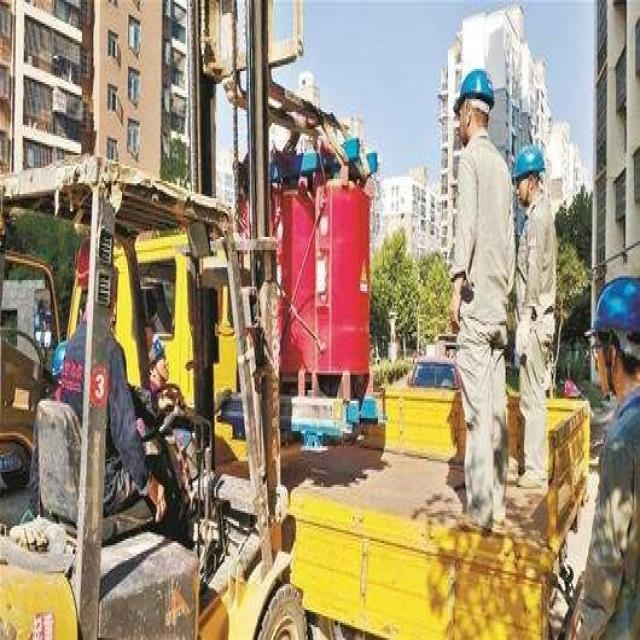Con_Casco: (452, 68, 496, 137)
Sin_Chaleco: (459, 141, 516, 320)
